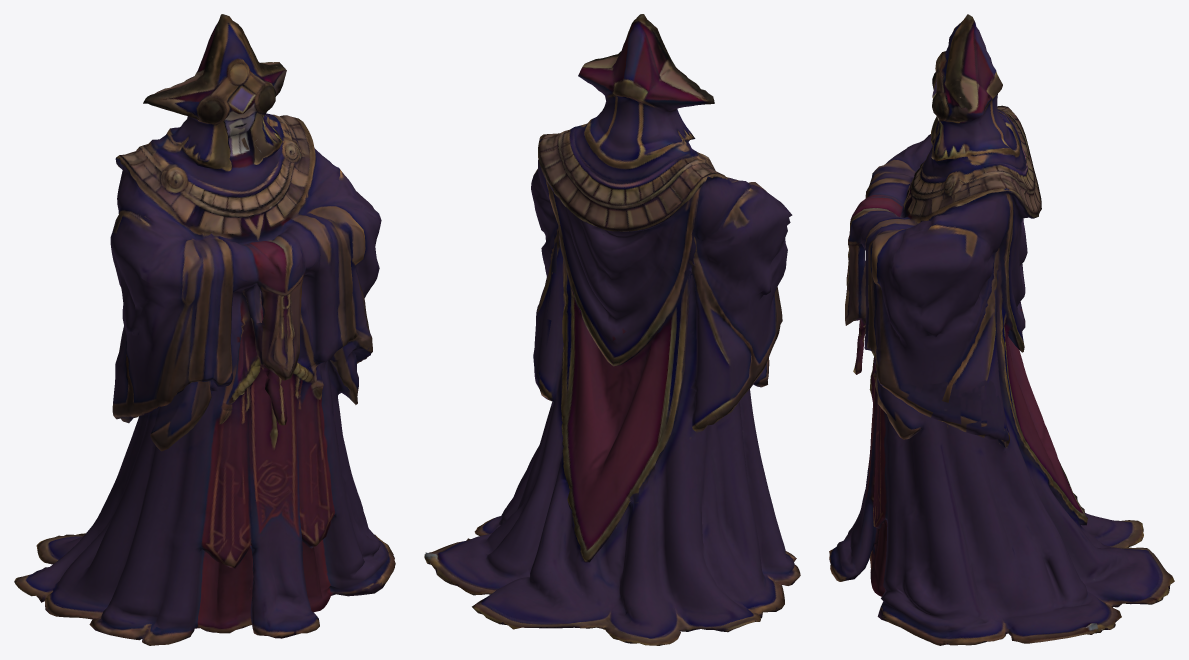
Rendered from Atlas.fbx.
3 renders of one model, left to right at view 1: azimuth 30°, elevation 25°; view 2: azimuth 150°, elevation 25°; view 3: azimuth 270°, elevation 25°, orthographic. The views are drawn at different scales.
Visible parts, largest first — view 1: fw_lowpoly; view 2: fw_lowpoly; view 3: fw_lowpoly.
Boxes of the visible parts, <box> form: fw_lowpoly: <box>14,14,395,645</box>; fw_lowpoly: <box>424,14,800,645</box>; fw_lowpoly: <box>829,14,1174,645</box>.
Size of the model in its own units: 58.45 by 97.66 by 54.89.
1 material, 1 textured.
